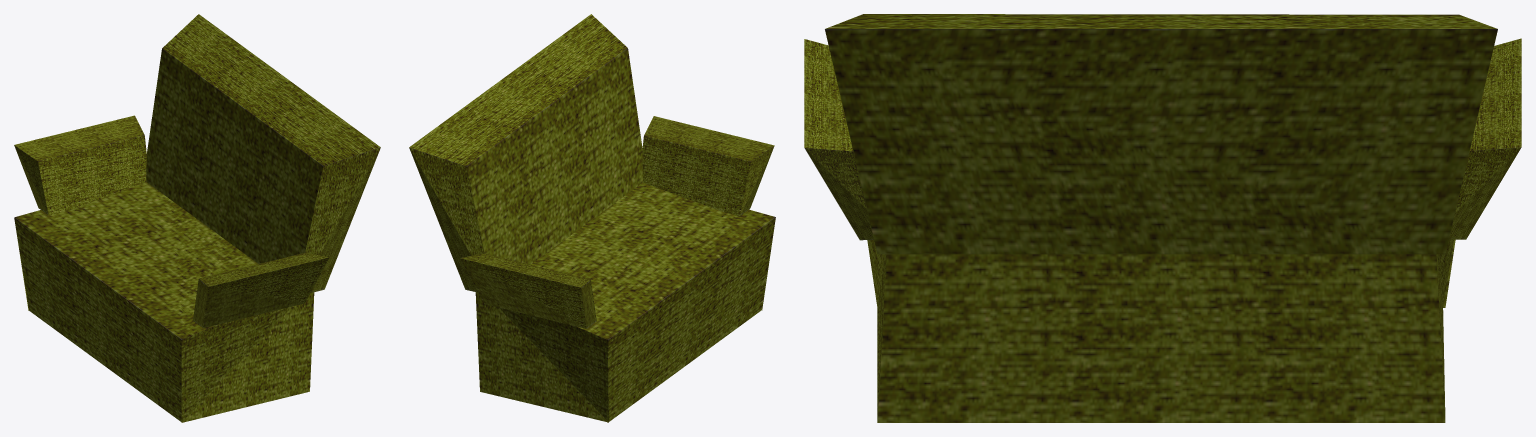
Rendered from Couch[Bank]_158.glb.
3 views of the same model, side by side, from view 1: azimuth 30°, elevation 25°; view 2: azimuth 150°, elevation 25°; view 3: azimuth 270°, elevation 25° (orthographic). The views are drawn at different scales.
Visible parts, largest first — view 1: pPlaneShape10, pPlaneShape4, pPlaneShape5, pPlaneShape2, pPlaneShape9, pPlaneShape20, pPlaneShape7, pPlaneShape13, pPlaneShape19, pPlaneShape14, pPlaneShape16, pPlaneShape12; view 2: pPlaneShape10, pPlaneShape4, pPlaneShape5, pPlaneShape1, pPlaneShape9, pPlaneShape15, pPlaneShape6, pPlaneShape18, pPlaneShape14, pPlaneShape19, pPlaneShape12, pPlaneShape16; view 3: pPlaneShape8, pPlaneShape3, pPlaneShape9, pPlaneShape19, pPlaneShape14, pPlaneShape17, pPlaneShape11, pPlaneShape2, pPlaneShape1.
Boxes of the visible parts, x1=… form: pPlaneShape10: x1=146, y1=48, x2=323, y2=263; pPlaneShape4: x1=14, y1=182, x2=257, y2=339; pPlaneShape5: x1=14, y1=218, x2=182, y2=421; pPlaneShape2: x1=181, y1=292, x2=314, y2=422; pPlaneShape9: x1=162, y1=14, x2=380, y2=165; pPlaneShape20: x1=38, y1=135, x2=146, y2=215; pPlaneShape7: x1=305, y1=147, x2=380, y2=292; pPlaneShape13: x1=203, y1=257, x2=329, y2=327; pPlaneShape19: x1=14, y1=115, x2=144, y2=161; pPlaneShape14: x1=199, y1=252, x2=328, y2=286; pPlaneShape16: x1=14, y1=145, x2=48, y2=214; pPlaneShape12: x1=193, y1=279, x2=208, y2=327; pPlaneShape10: x1=466, y1=48, x2=642, y2=264; pPlaneShape4: x1=531, y1=182, x2=775, y2=339; pPlaneShape5: x1=607, y1=217, x2=775, y2=422; pPlaneShape1: x1=475, y1=292, x2=608, y2=422; pPlaneShape9: x1=409, y1=14, x2=627, y2=166; pPlaneShape15: x1=642, y1=136, x2=750, y2=215; pPlaneShape6: x1=409, y1=147, x2=485, y2=292; pPlaneShape18: x1=460, y1=258, x2=586, y2=328; pPlaneShape14: x1=644, y1=116, x2=774, y2=161; pPlaneShape19: x1=460, y1=253, x2=590, y2=287; pPlaneShape12: x1=740, y1=146, x2=774, y2=215; pPlaneShape16: x1=581, y1=280, x2=596, y2=328; pPlaneShape8: x1=825, y1=29, x2=1497, y2=254; pPlaneShape3: x1=877, y1=254, x2=1445, y2=422; pPlaneShape9: x1=825, y1=14, x2=1497, y2=28; pPlaneShape19: x1=1469, y1=38, x2=1521, y2=150; pPlaneShape14: x1=804, y1=39, x2=852, y2=151; pPlaneShape17: x1=1449, y1=147, x2=1521, y2=239; pPlaneShape11: x1=804, y1=148, x2=873, y2=240; pPlaneShape2: x1=867, y1=240, x2=886, y2=420; pPlaneShape1: x1=1436, y1=239, x2=1453, y2=416.
Bounding box in the file's own units: 0.1489 × 0.1787 × 0.261.
20 materials, 20 textured.
